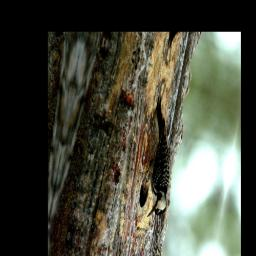Woodpecker: (130, 83, 189, 231)
